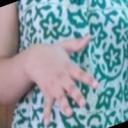hand: (22, 33, 99, 127)
